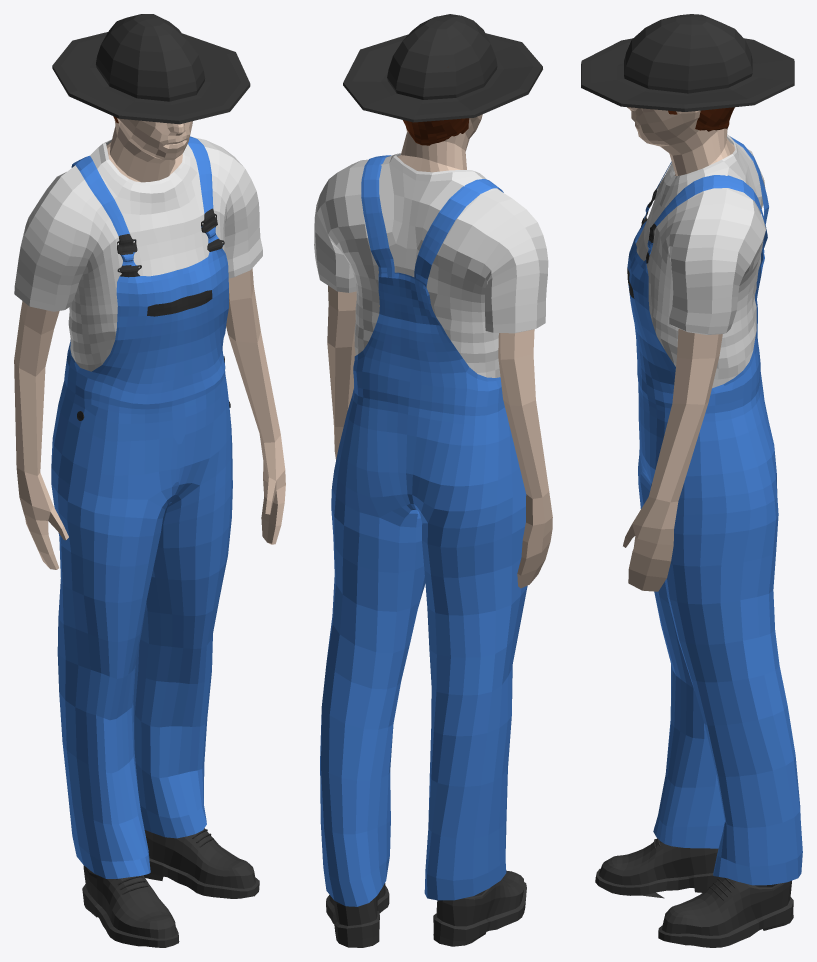
The model's file is low_poly_farmer_man.glb.
3 renders of one model, left to right at view 1: azimuth 30°, elevation 25°; view 2: azimuth 150°, elevation 25°; view 3: azimuth 270°, elevation 25°, orthographic. The views are drawn at different scales.
Parts seen in each view (by area): view 1: FarmerMan; view 2: FarmerMan; view 3: FarmerMan.
Boxes of the visible parts, left/top/right/bottom form: FarmerMan: left=14, top=14, right=285, bottom=947; FarmerMan: left=314, top=14, right=552, bottom=947; FarmerMan: left=581, top=14, right=802, bottom=947.
Bounding box in the file's own units: 0.507 × 1.84 × 0.4201.
